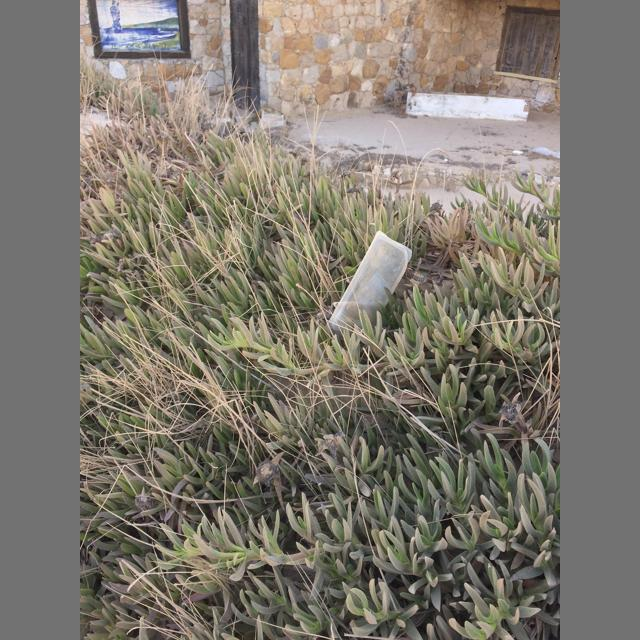litter: (325, 231, 412, 335)
